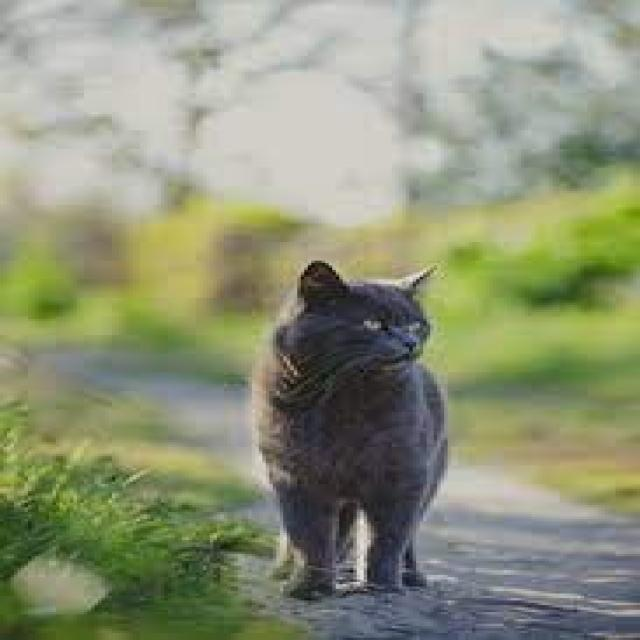Cat: (239, 252, 464, 610)
